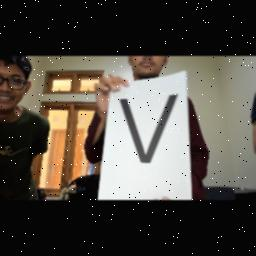v: (116, 89, 180, 165)
